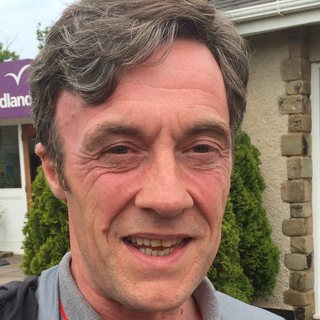eye: (93, 140, 144, 164), (178, 139, 224, 163)
